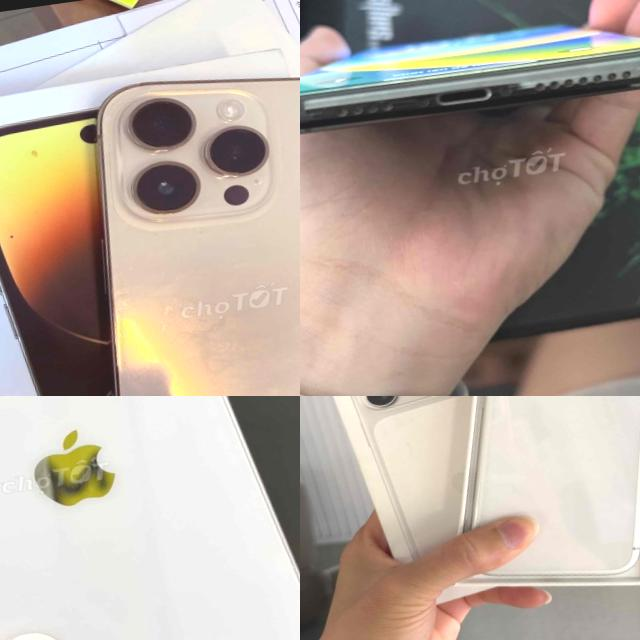gen_11: (300, 25, 640, 132)
gen_14: (53, 40, 300, 396), (0, 396, 300, 640)
gen_17: (424, 396, 640, 603)
